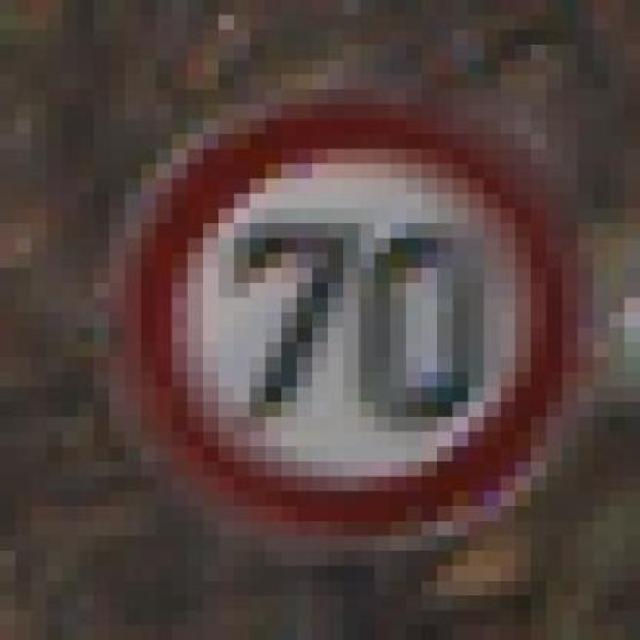forb_speed_over_70: (127, 89, 575, 540)
